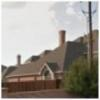chimneys: (58, 29, 66, 47), (16, 53, 23, 66)
